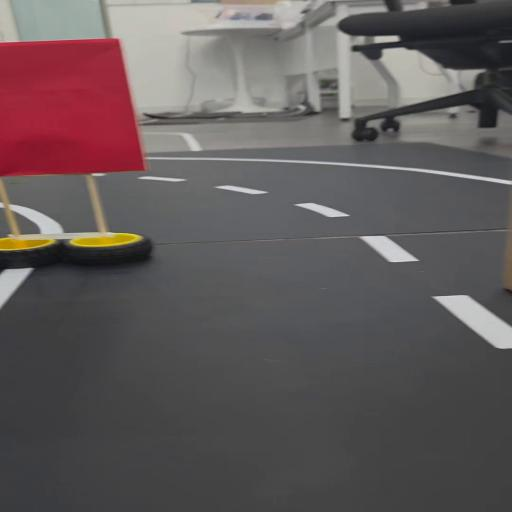Sign_A: (0, 36, 164, 272)
